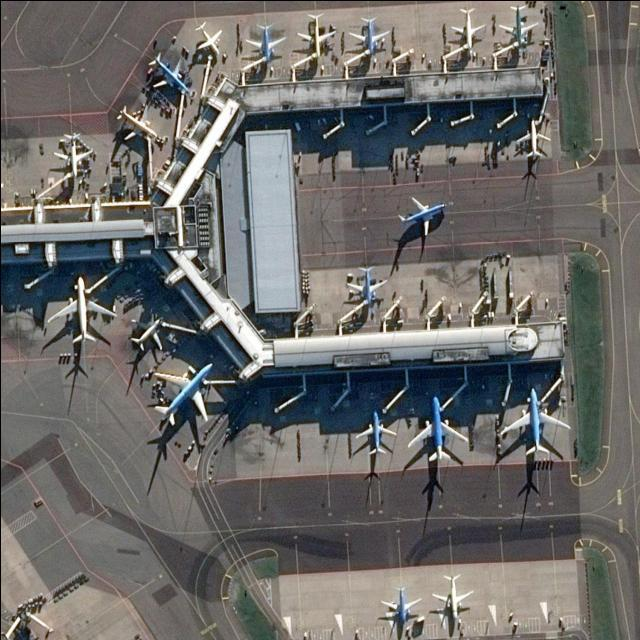Aircraft: (497, 388, 570, 458), (45, 276, 115, 345), (150, 361, 214, 427), (405, 397, 467, 465), (396, 196, 446, 237), (146, 52, 190, 97), (354, 410, 396, 457), (432, 572, 472, 621), (52, 133, 92, 179), (295, 12, 335, 58), (497, 4, 538, 48), (347, 15, 389, 57), (380, 586, 421, 628), (243, 23, 285, 63), (345, 265, 385, 307), (114, 105, 158, 143), (448, 8, 484, 52), (514, 120, 550, 160), (128, 315, 165, 352), (193, 21, 223, 57)
